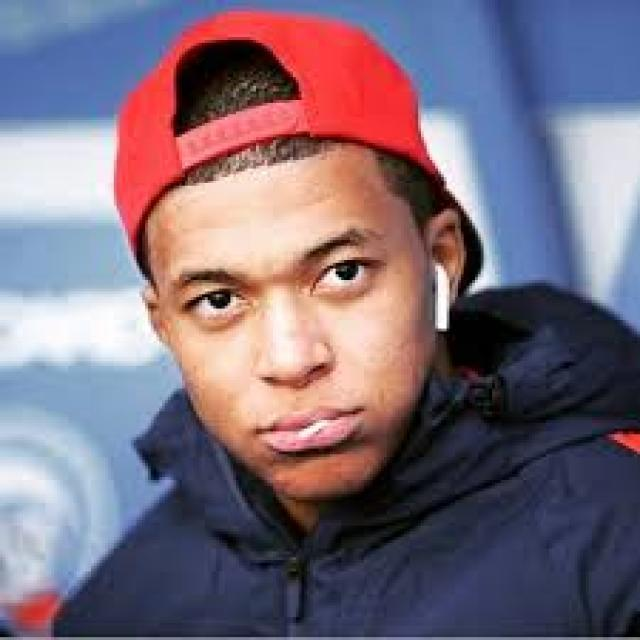earphone: (415, 261, 466, 350)
